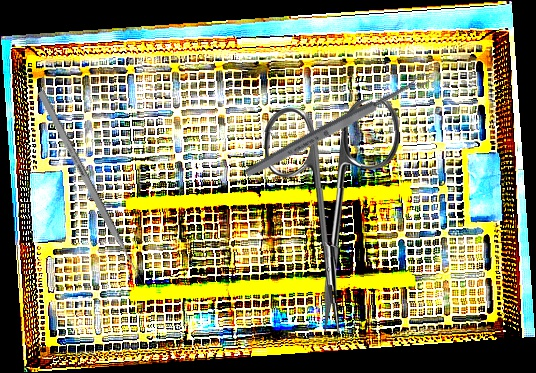Iris Scissors: (263, 99, 403, 335)
Pusher: (36, 89, 148, 289)
Surgical Spoon: (243, 71, 431, 180)
